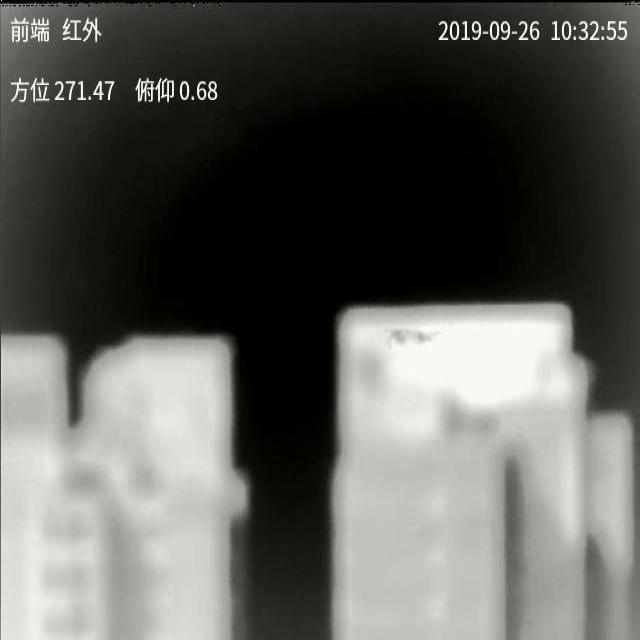drone: (382, 325, 432, 346)
